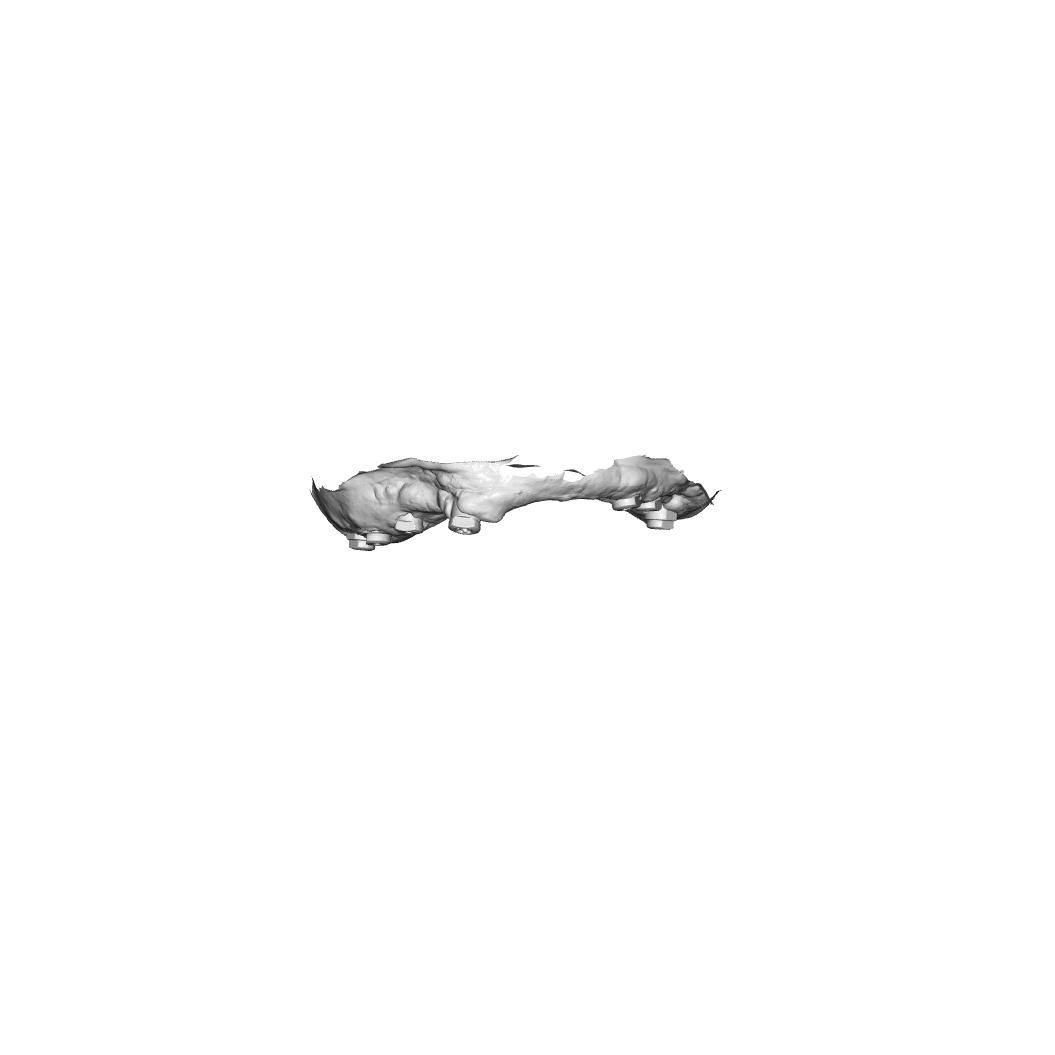implant: (447, 495, 482, 536), (641, 506, 679, 531), (393, 512, 424, 537), (345, 530, 376, 552), (610, 496, 642, 513), (635, 494, 663, 512), (365, 532, 392, 547)
